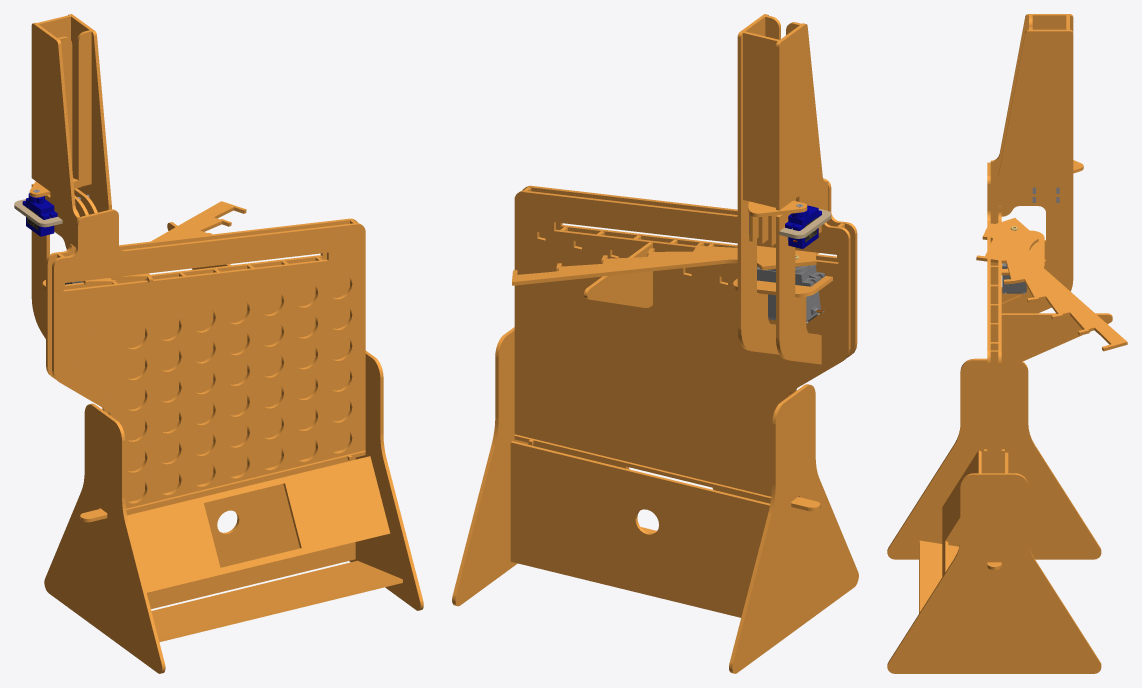
Rendered from Connect4Robot-transformed.glb.
The picture shows the model from 3 angles, left to right: view 1: azimuth 30°, elevation 25°; view 2: azimuth 150°, elevation 25°; view 3: azimuth 270°, elevation 25°; orthographic projection. The views are drawn at different scales.
Parts seen in each view (by area): view 1: Body1, Body1.022; view 2: Body1, Body1.006, Body1.022; view 3: Body1.
Part boxes in pixels (x1=…): Body1: x1=14, y1=14, x2=423, y2=673; Body1.022: x1=22, y1=193, x2=57, y2=236; Body1: x1=452, y1=14, x2=858, y2=673; Body1.006: x1=757, y1=265, x2=824, y2=321; Body1.022: x1=785, y1=205, x2=821, y2=248; Body1: x1=887, y1=14, x2=1127, y2=673.
Size of the model in its own units: 10.94 by 19 by 7.78.
4 materials, 4 textured.
